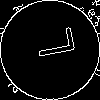L: (25, 25, 75, 62)
